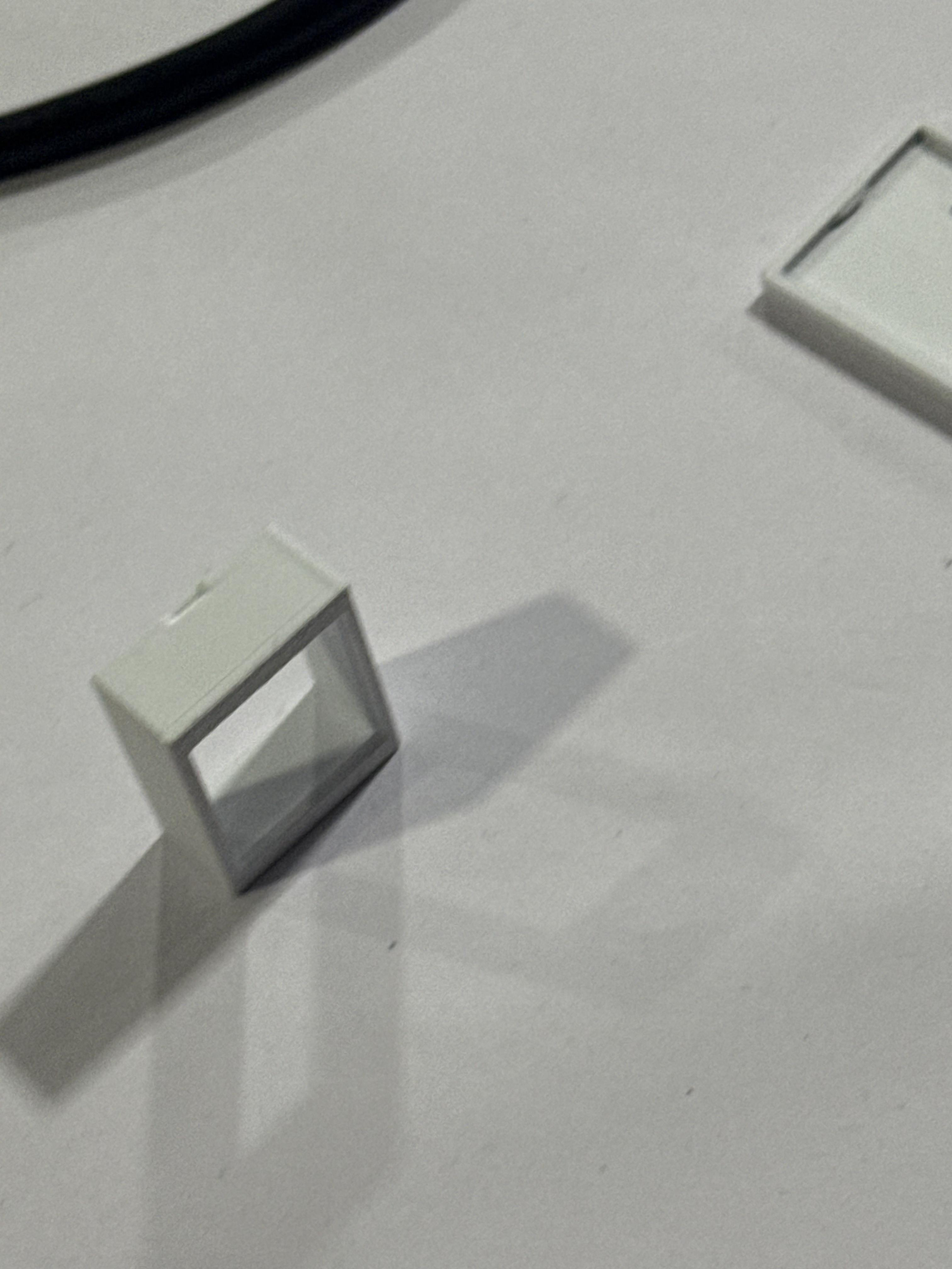enclosure: (90, 520, 404, 899), (746, 122, 952, 439)
